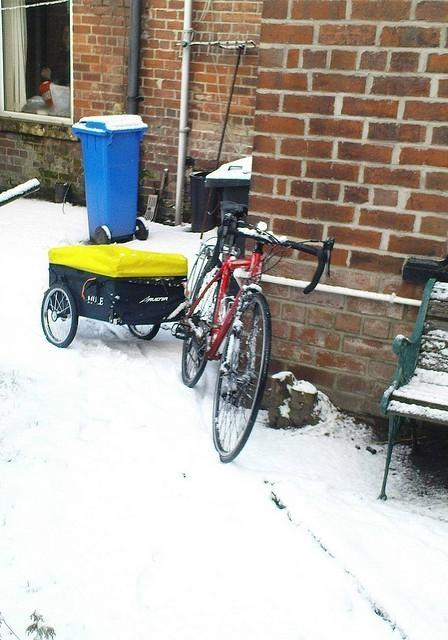bicycle: (171, 201, 334, 462)
